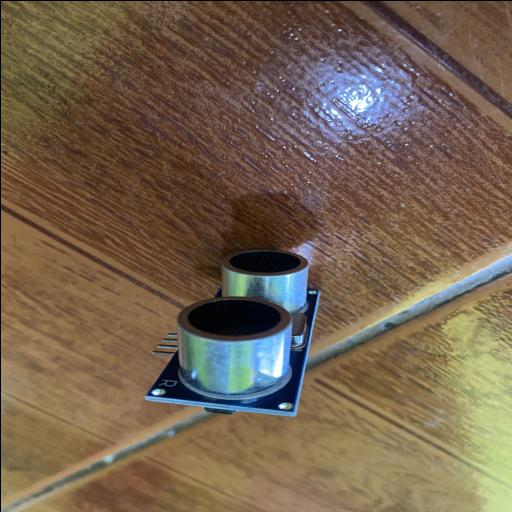Ultrasonic Sensor: (142, 248, 320, 416)
